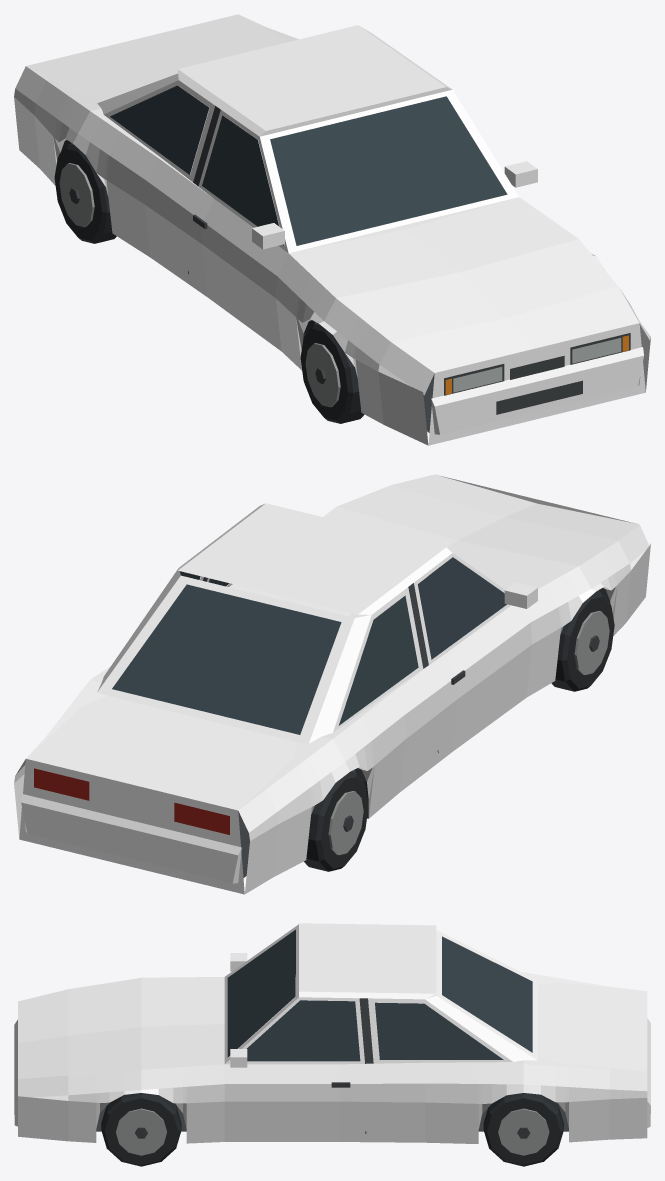
The model's file is hayase_kagura_gt.glb.
3 renders of one model, top to bottom at view 1: azimuth 30°, elevation 25°; view 2: azimuth 150°, elevation 25°; view 3: azimuth 270°, elevation 25°, orthographic. The views are drawn at different scales.
Visible parts, largest first — view 1: hayase_kagura_gt; view 2: hayase_kagura_gt; view 3: hayase_kagura_gt.
Part boxes in pixels (x1,y1,x2,y2): hayase_kagura_gt: (14,14,650,445); hayase_kagura_gt: (14,474,650,894); hayase_kagura_gt: (14,923,650,1166).
Bounding box in the file's own units: 1.75 × 1.24 × 4.48.
8 materials, 1 textured.
